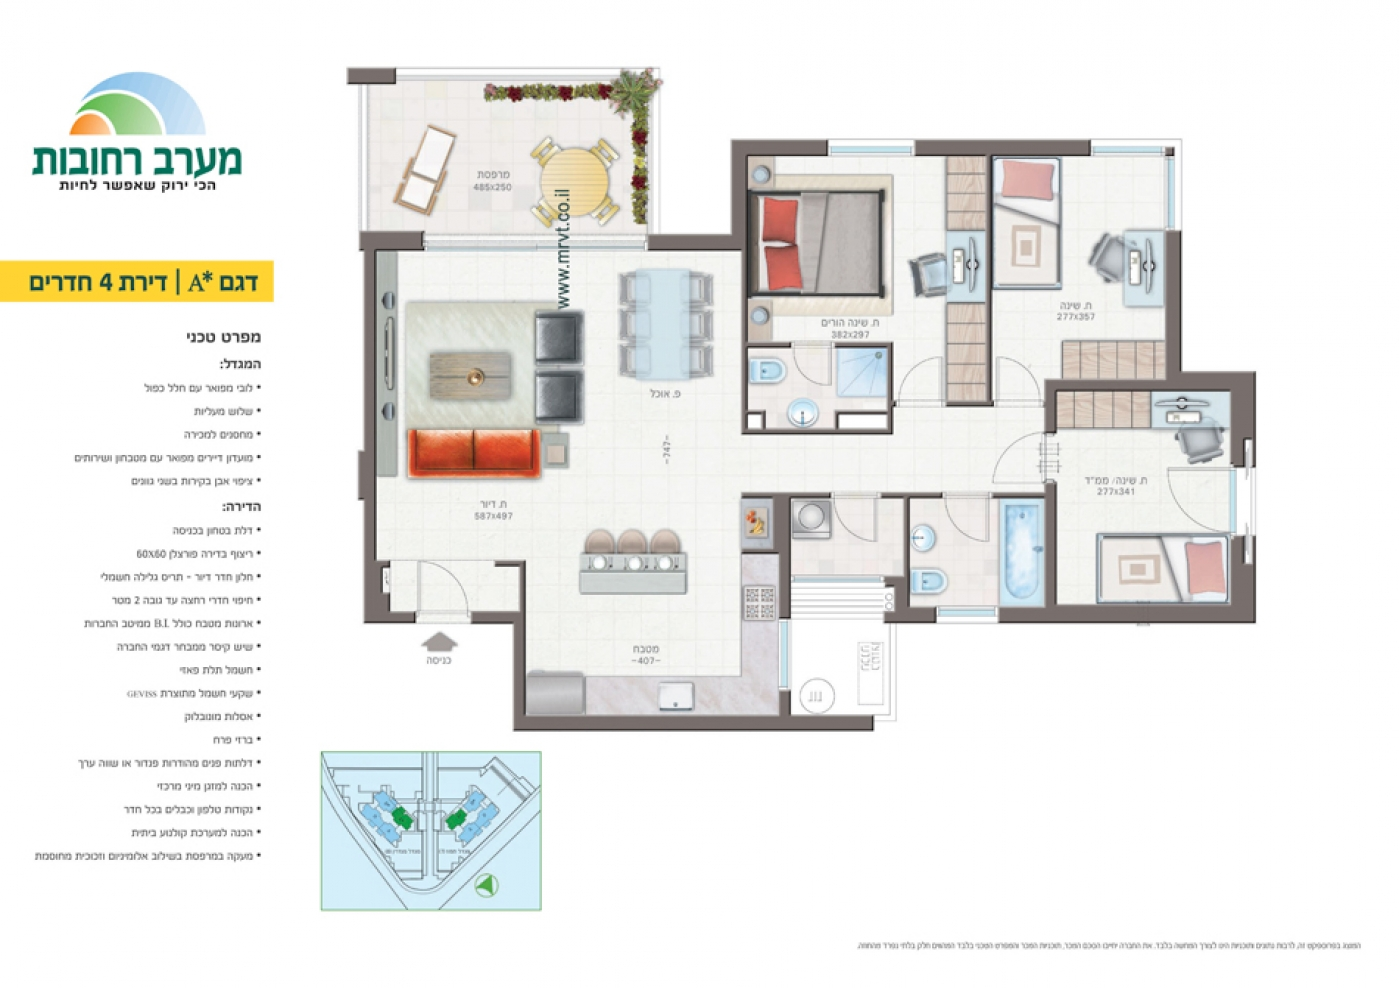door: (408, 558, 475, 609), (991, 431, 1041, 489), (943, 499, 994, 545), (831, 500, 882, 546), (895, 355, 945, 396), (992, 356, 1042, 397)
wall: (515, 715, 873, 730), (366, 233, 376, 622), (1046, 605, 1255, 622), (915, 140, 1091, 156), (1166, 230, 1180, 389), (731, 139, 745, 251), (731, 140, 829, 155), (515, 612, 525, 730), (782, 493, 791, 619), (998, 609, 1057, 624)
